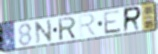8: (17, 22, 33, 47)
E: (103, 9, 122, 36)
N: (33, 18, 53, 45)
R: (123, 5, 143, 34), (57, 16, 78, 42), (78, 12, 98, 38)
